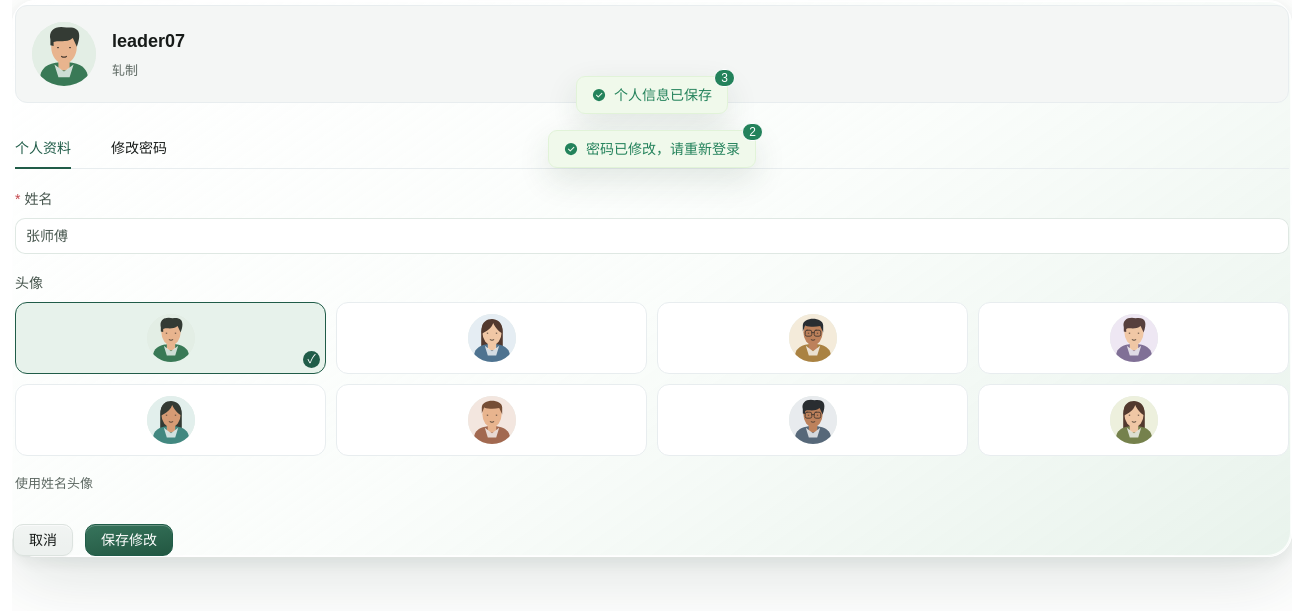
own password changes › rejects invalid fields before sending a request (Current123!)
The width and height of the screenshot is (1304, 611).
Click the tab with id "tab-password": (139, 148) [111,140,167,156]
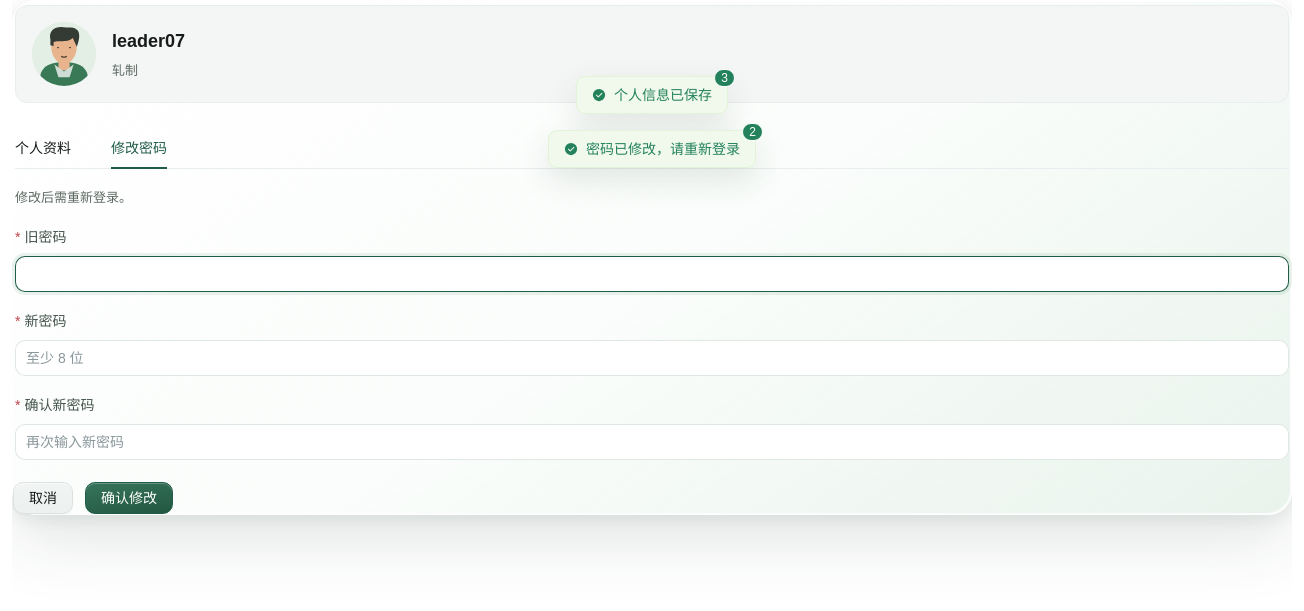
In the password field named "旧密码": (652, 274) [26,256,1278,290], type "Current123!"
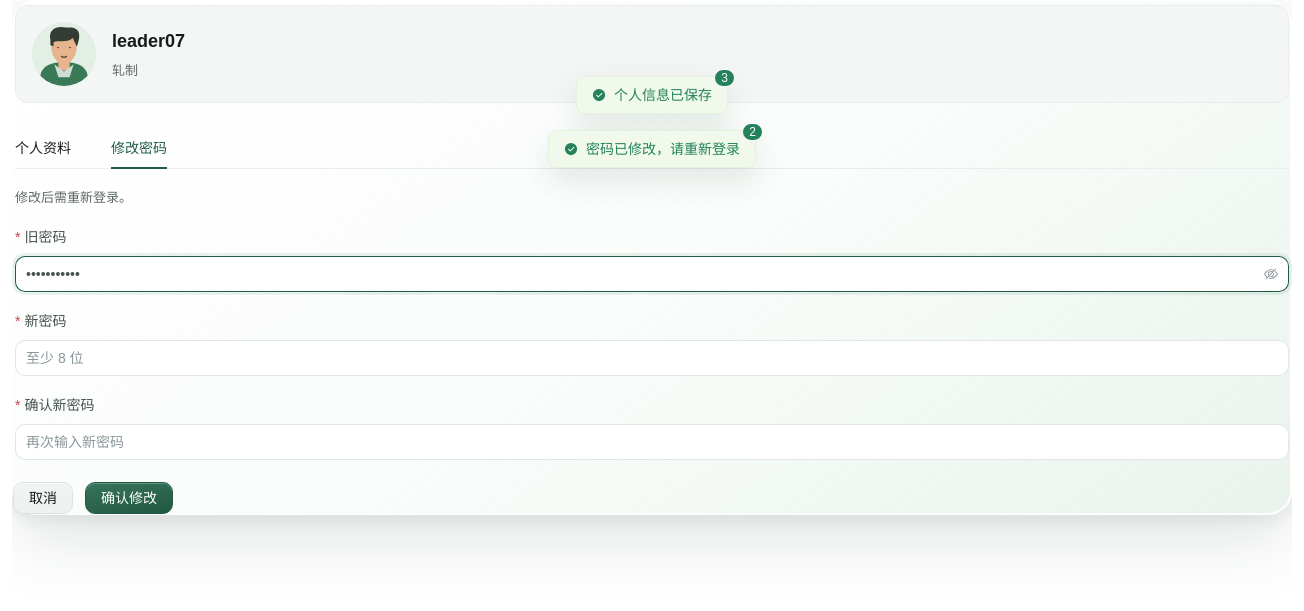
In the password field named "新密码": (652, 358) [26,340,1278,374], type "short"
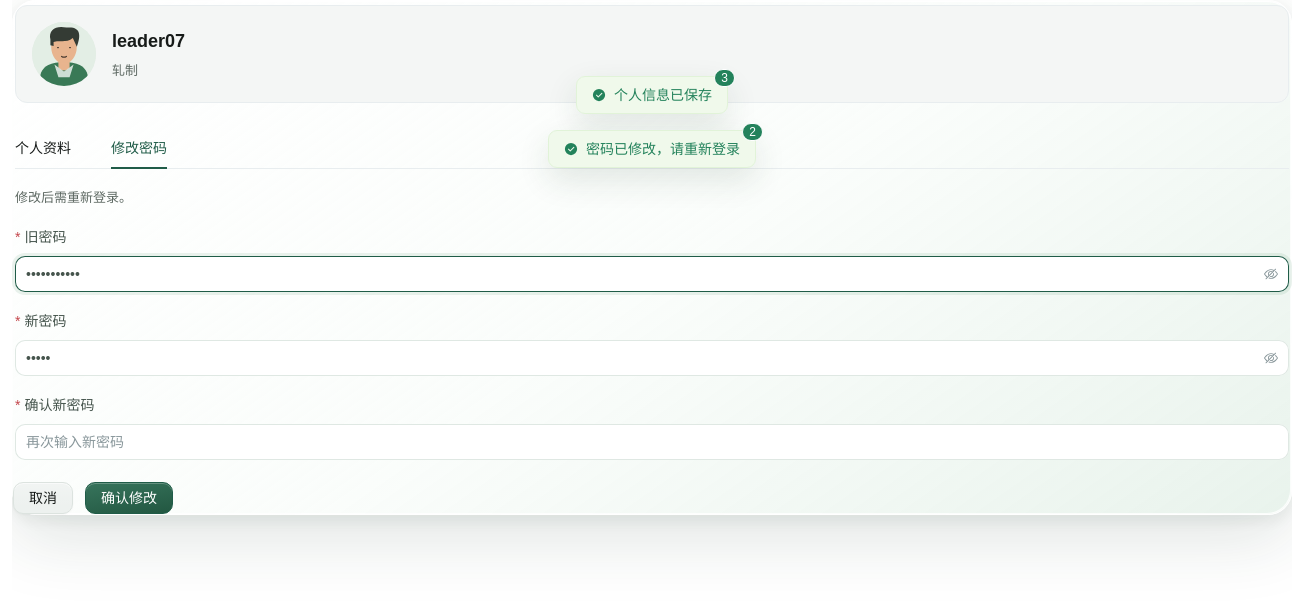
In the password field named "确认新密码": (652, 442) [26,424,1278,458], type "short"
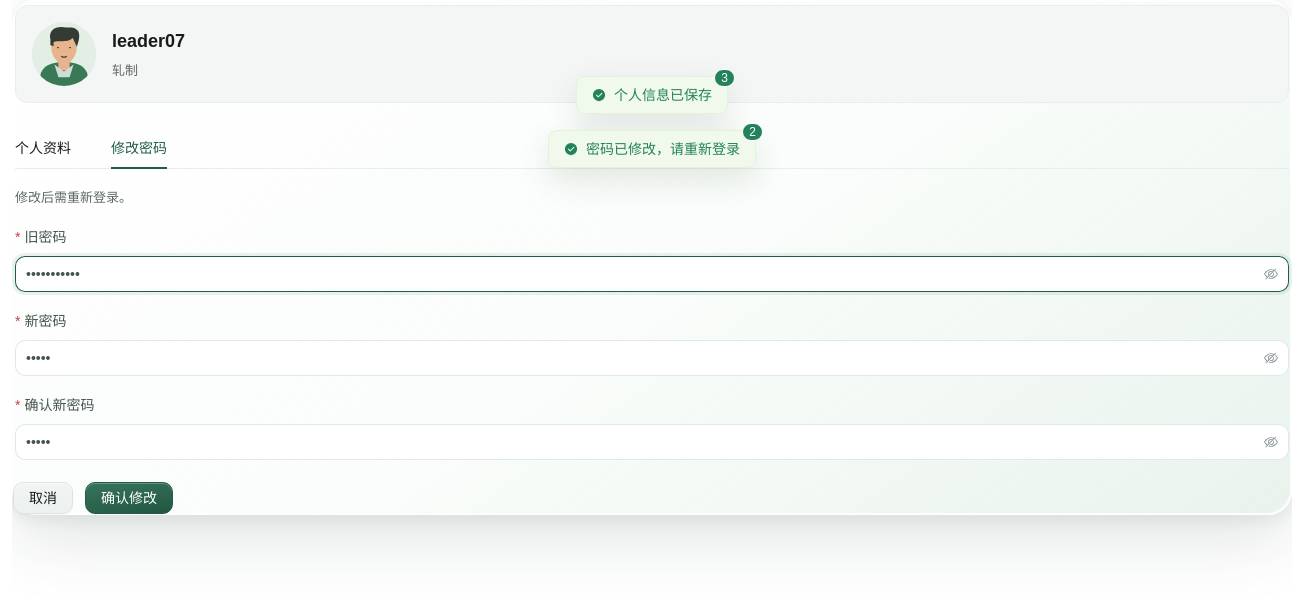
Click the button "确认修改": (129, 498) [85,482,173,514]
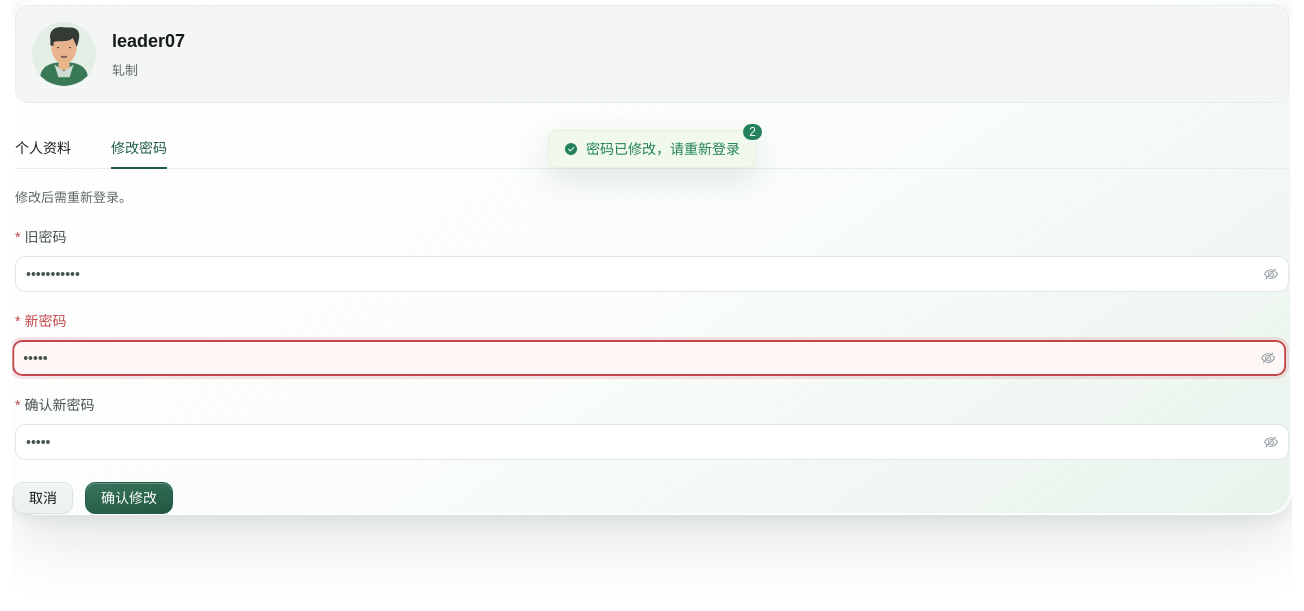
Now the element with class "is-error" is shown, box [15,310,1289,376]
